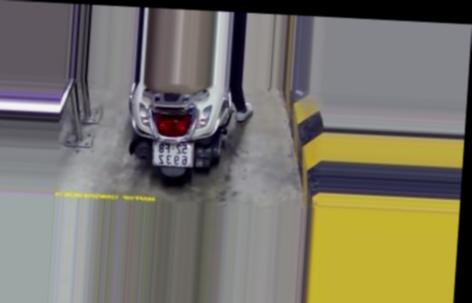License_Plate: (151, 136, 198, 173)
